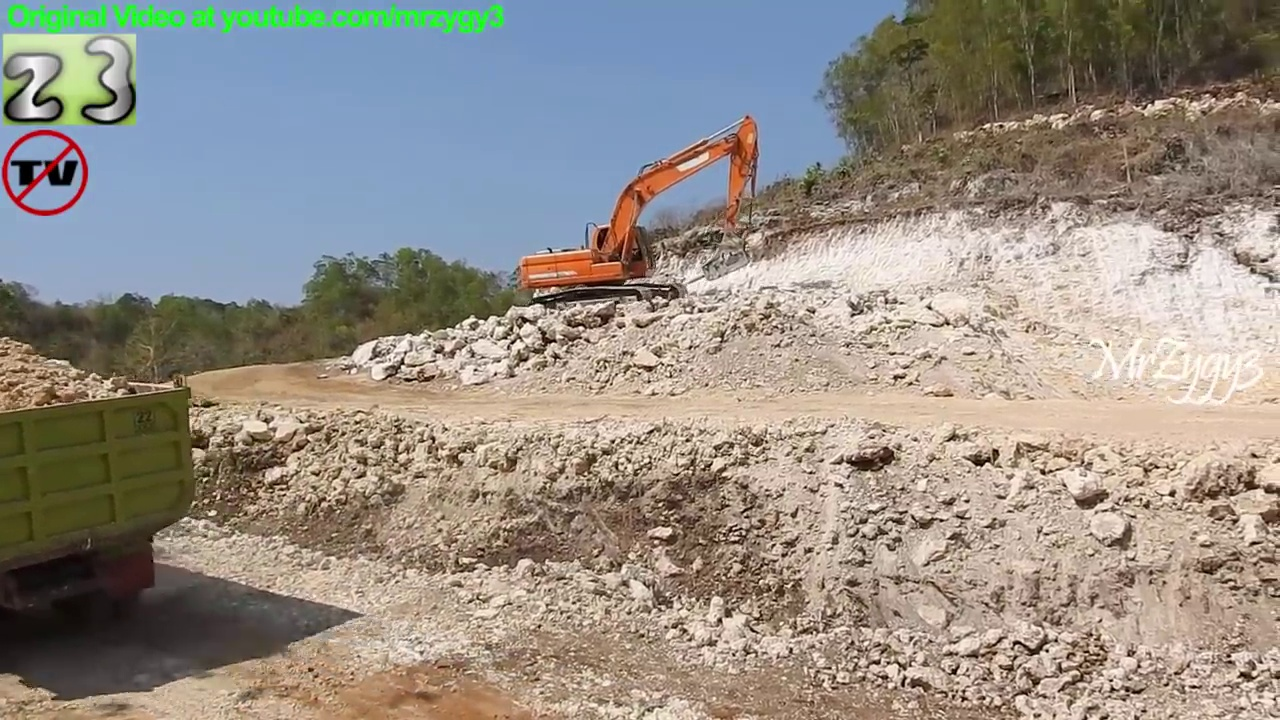excavator breaker: (516, 110, 769, 328)
truck: (3, 361, 202, 671)
